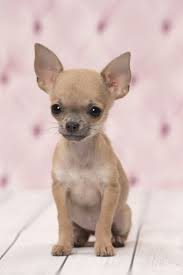Bulldog: (22, 30, 150, 269)
